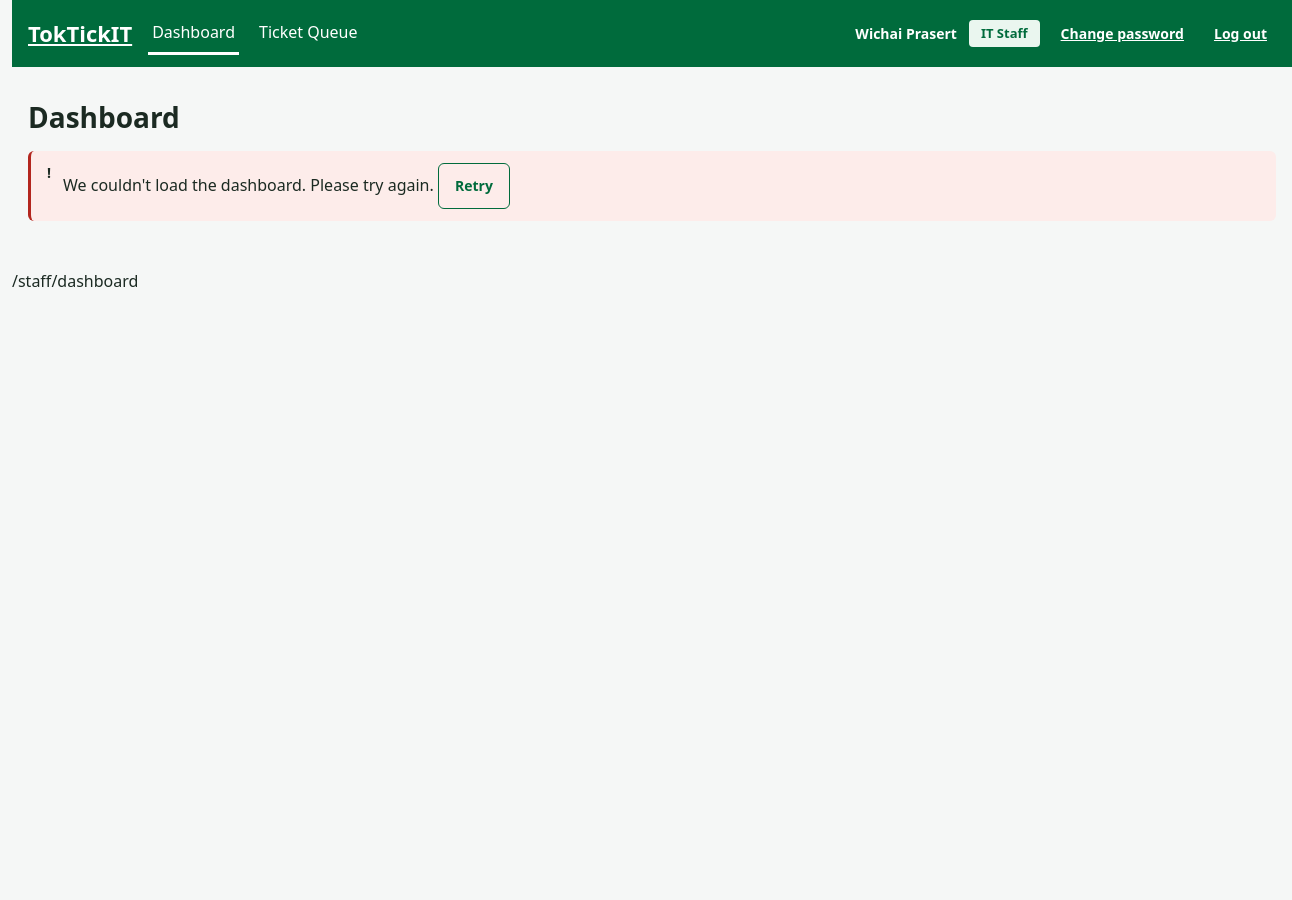
Test case: UI-03 (AC-30) - loading, failure, and forbidden › shows the safe error callout on a 500, with no status code, and Retry refetches
The width and height of the screenshot is (1292, 900).
Expected: the element with test id "staff-dashboard-screen" is shown, x1=28 y1=99 x2=1276 y2=237
Expected: the message with test id "state-dashboard-failed" shows "We couldn't load the dashboard. Please try again.", x1=63 y1=174 x2=434 y2=196
Click the button "Retry".
click(474, 186)  # box x1=438 y1=163 x2=510 y2=209
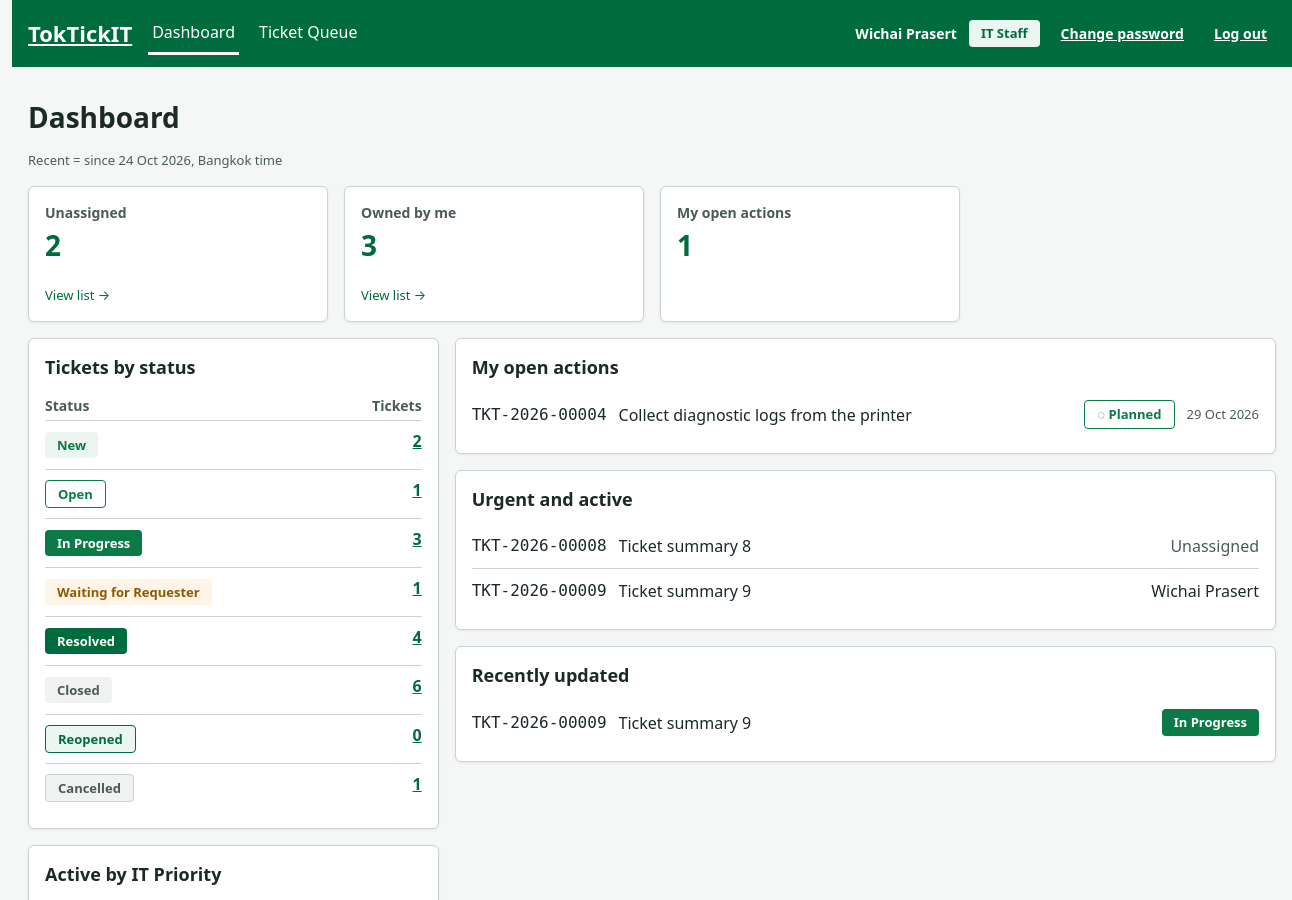
Now the link with test id "metric-unassigned" is shown, box x1=28 y1=186 x2=328 y2=322
Now the message with test id "state-dashboard-failed" is gone
